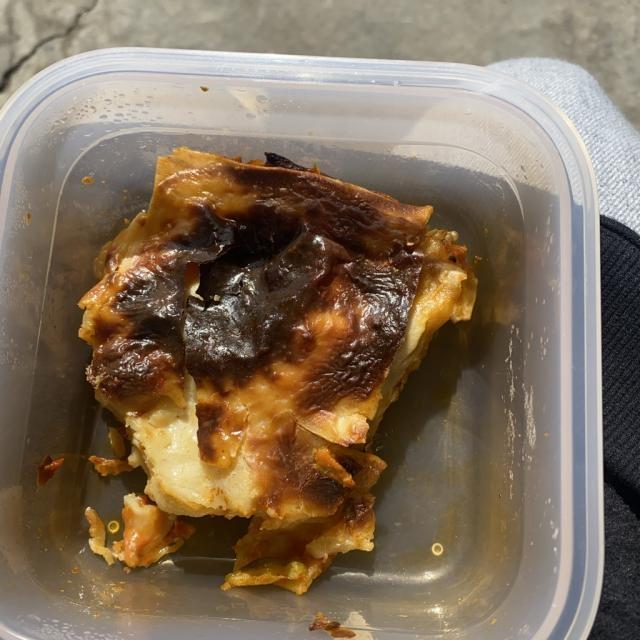lasagne: (83, 157, 469, 579)
